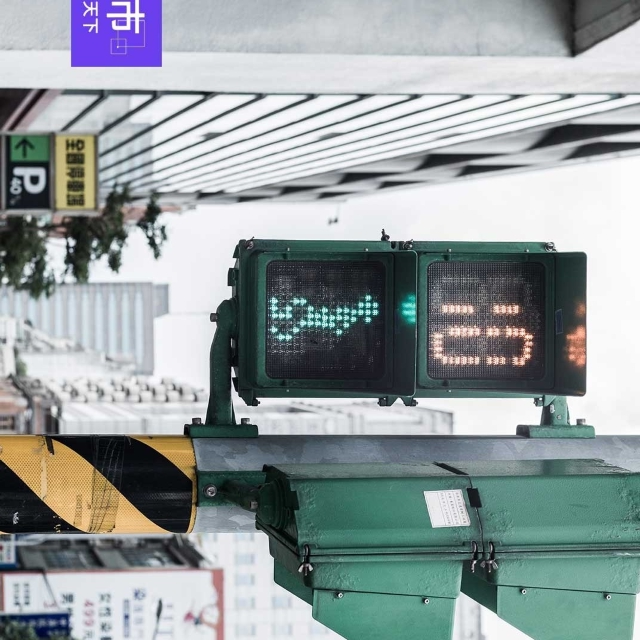green_light: (238, 240, 585, 398)
